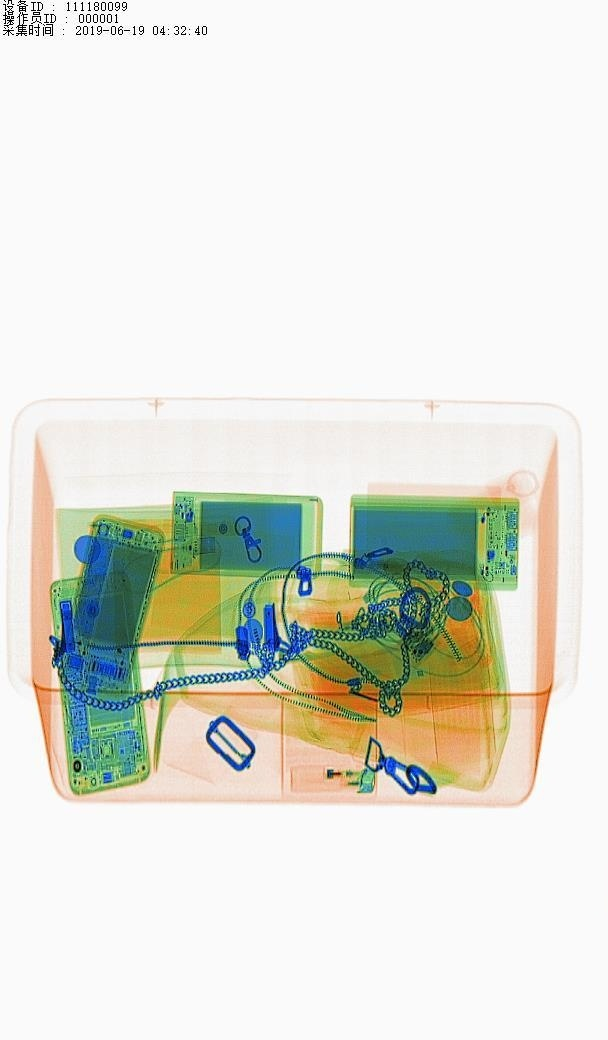NonmetallicFire: (278, 755, 385, 804)
